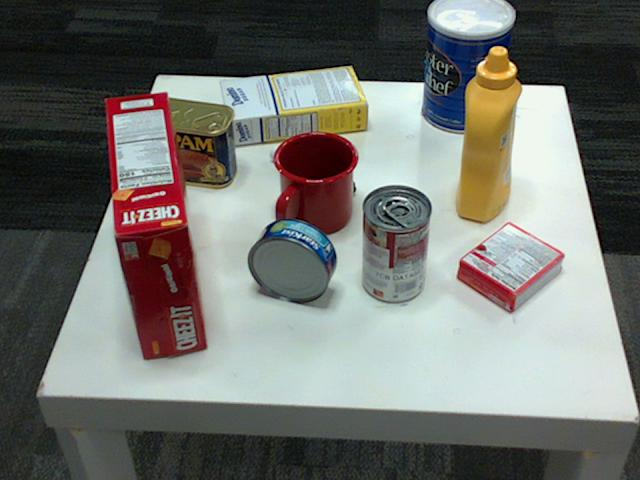cracker_box: (103, 90, 208, 357)
gelatin_box: (457, 222, 565, 312)
large_marker: (268, 148, 354, 195)
master_chef_can: (420, 0, 512, 132)
mug: (274, 128, 360, 232)
mustard_bottle: (455, 47, 522, 221)
potted_meat_can: (140, 98, 237, 187)
sugar_box: (219, 65, 368, 143)
tomato_soup_can: (362, 184, 432, 302)
tuna_fish_can: (249, 218, 338, 302)
